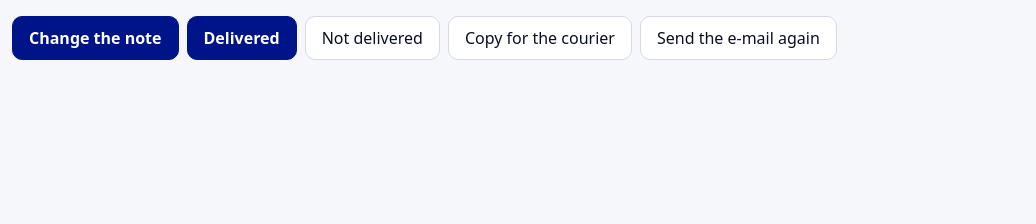
Test: the repeat e-mail button › asks which letter for a shipped order, and sends the one that was chosen
This screenshot has width=1036, height=224.
Click the button with test id "shop-order-resend". click: (738, 38)
box: [640, 16, 837, 60]
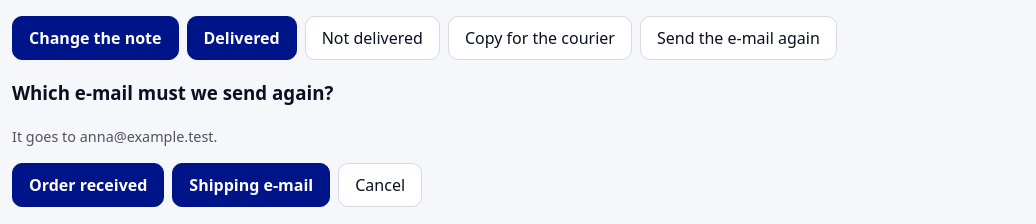
Expected: the element with test id "shop-resend-panel" shows "anna@example.test", [12, 126, 217, 146]
Expected: the button with test id "shop-resend-shipped" is shown
Click the button with test id "shop-resend-shipped". click: (251, 185)
box: [172, 163, 330, 207]
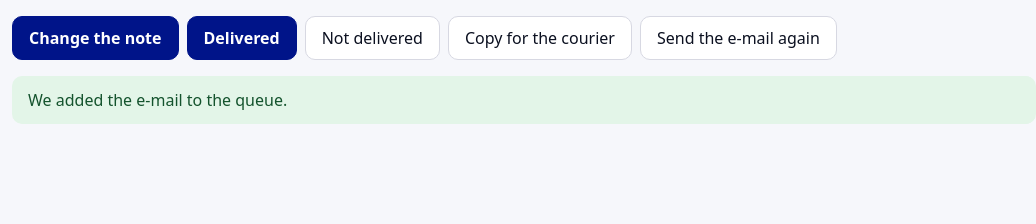
Expected: the message with test id "shop-order-note" reads "We added the e-mail to the queue.", [28, 89, 287, 111]
